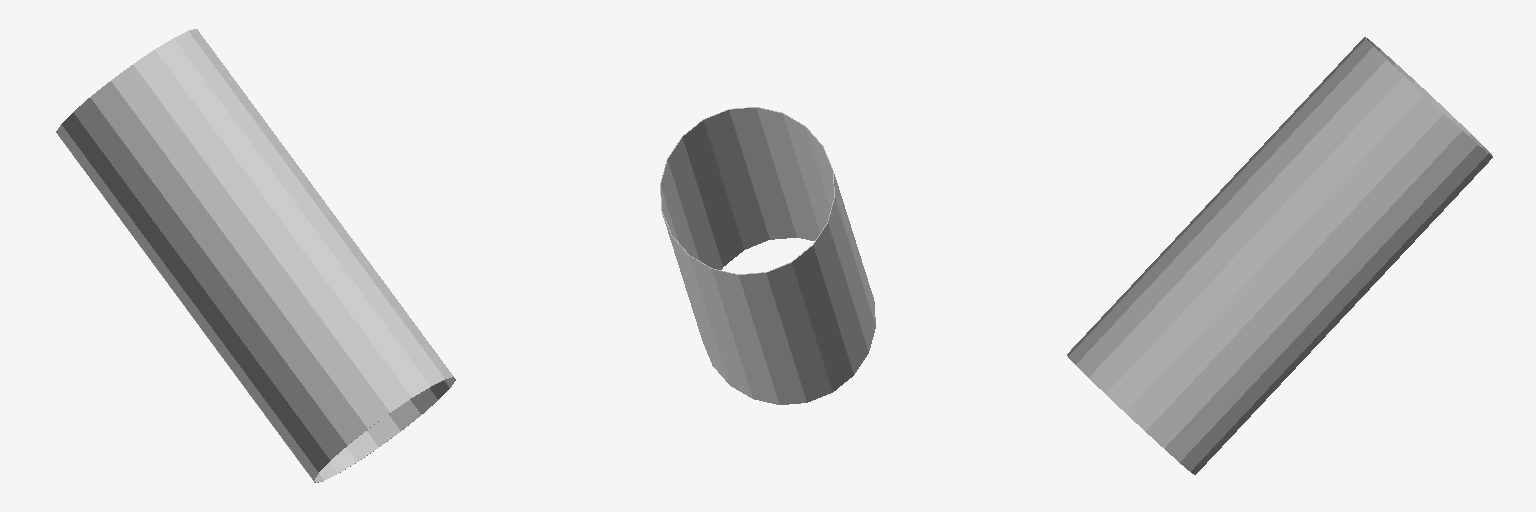
The model's file is thick-cylinder-oblique.obj.
3 views of the same model, side by side, from view 1: azimuth 30°, elevation 25°; view 2: azimuth 150°, elevation 25°; view 3: azimuth 270°, elevation 25° (orthographic).
Visible parts, largest first — view 1: pPipe1; view 2: pPipe1; view 3: pPipe1.
Part boxes in pixels (bbox=[...]): pPipe1: bbox=[56, 29, 455, 482]; pPipe1: bbox=[660, 107, 875, 404]; pPipe1: bbox=[1067, 37, 1492, 474].
Bounding box in the file's own units: 23.98 × 34.58 × 34.81.